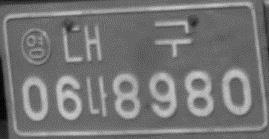0: (220, 67, 253, 116), (21, 75, 49, 122)
6: (55, 75, 83, 119)
8: (184, 70, 215, 116), (112, 72, 142, 119)
9: (148, 71, 178, 117)
나: (84, 74, 110, 119)
대구_D: (61, 17, 194, 64)
영: (20, 27, 52, 65)
